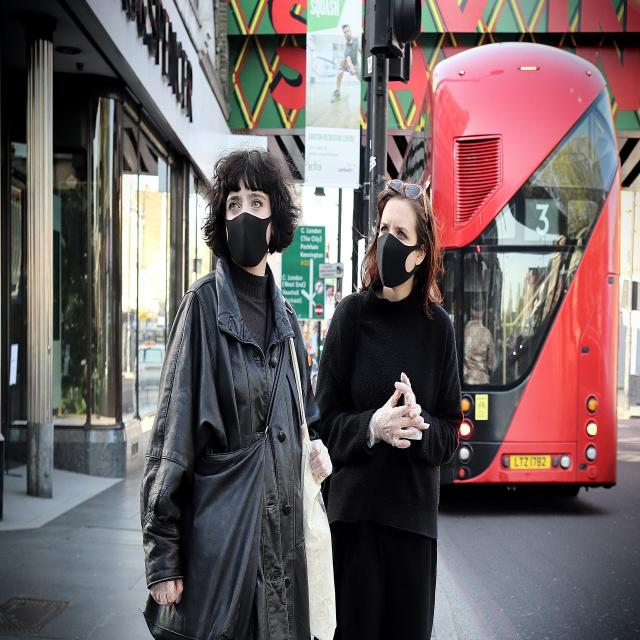Gloves: (367, 369, 429, 451), (147, 581, 187, 613), (309, 433, 332, 485)
Mask: (219, 212, 270, 271), (373, 232, 408, 291)
